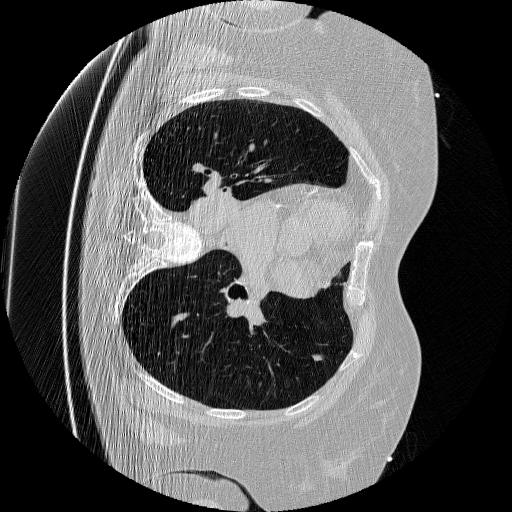nodule: (311, 353, 324, 366)
